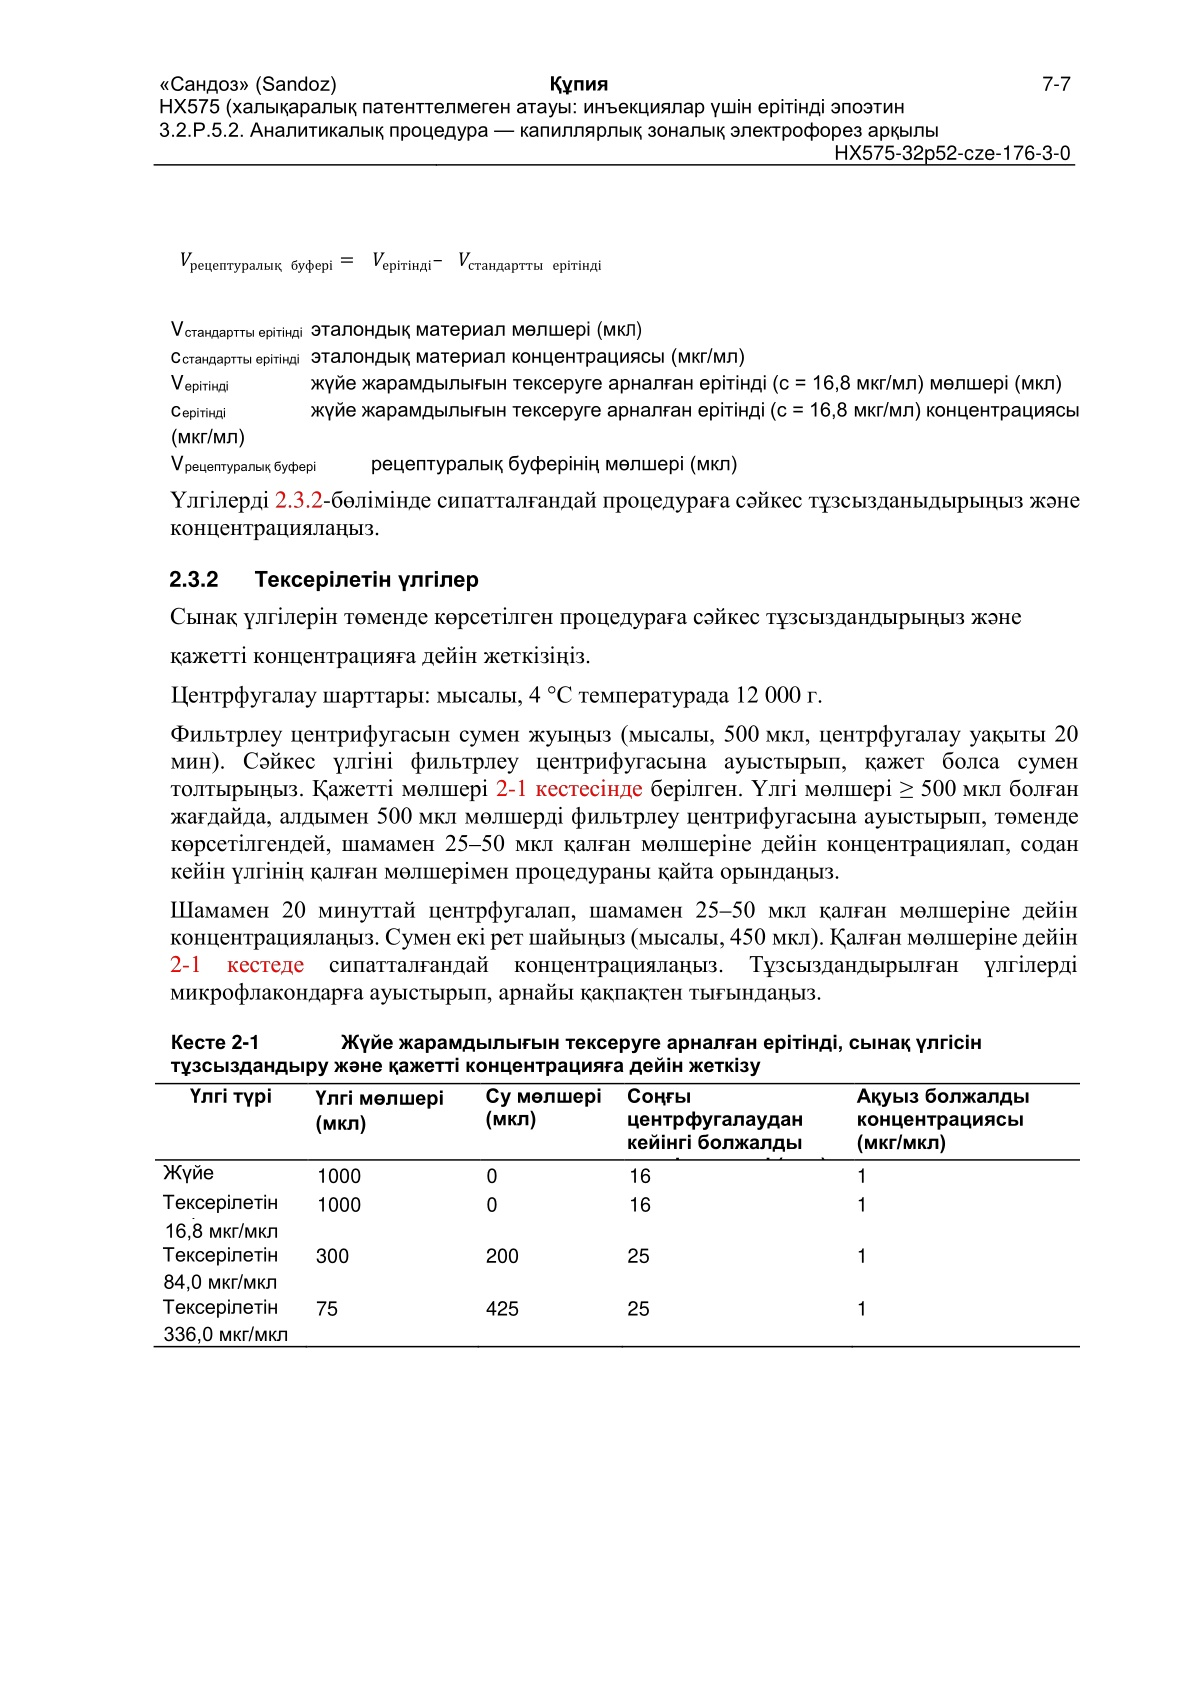partial_lined: (153, 1082, 1081, 1348)
